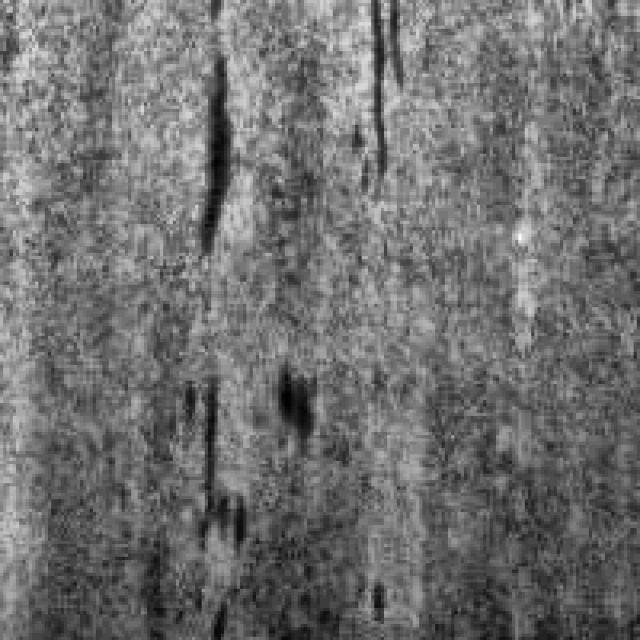Patches: (166, 364, 246, 564), (182, 42, 250, 266), (349, 0, 416, 198), (266, 352, 324, 451)
